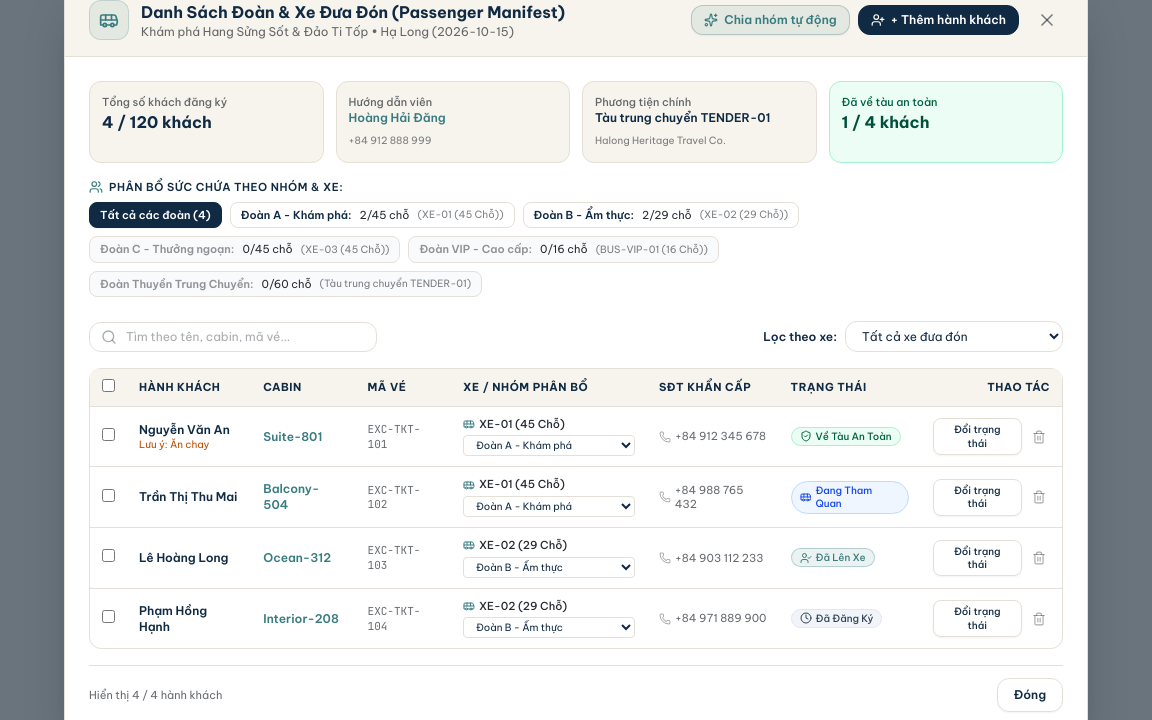
Test: ExcursionManifestModal Component Suite (KAN-174) › filters manifest passengers when typing "EXC-TKT-103"
This screenshot has width=1152, height=720.
Type "EXC-TKT-103" into the field with placeholder "Tìm theo tên, cabin, mã vé..." at (233, 337), box left=89, top=322, right=377, bottom=352
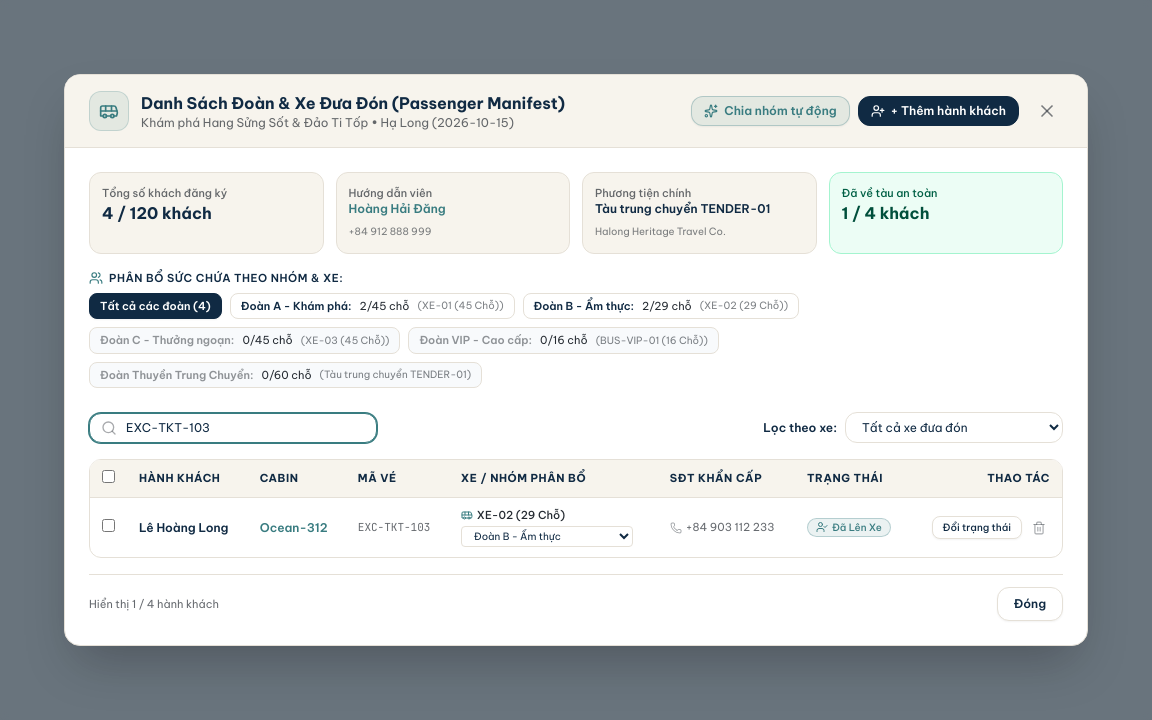
Check: the text "Lê Hoàng Long" is shown, box left=127, top=497, right=248, bottom=558
Check: the text "Nguyễn Văn An" is gone
